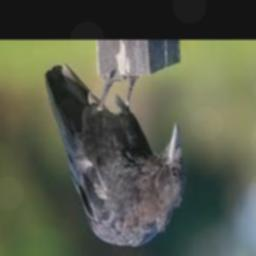Crow: (44, 64, 184, 247)
